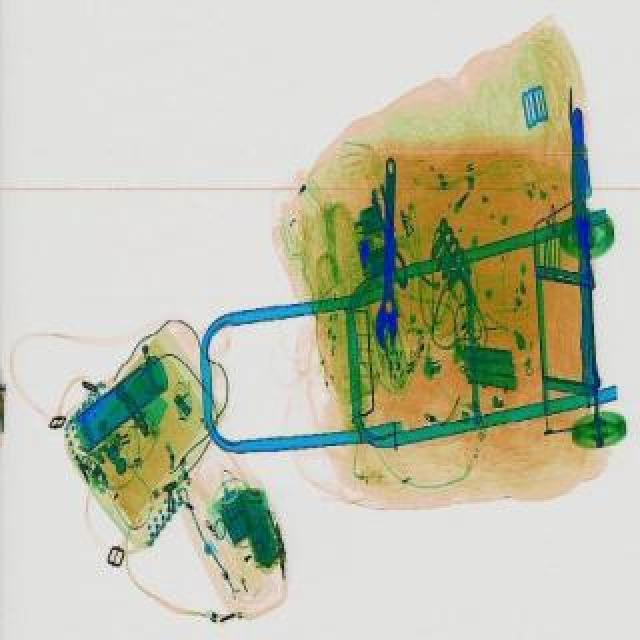scissors: (374, 154, 402, 350)
